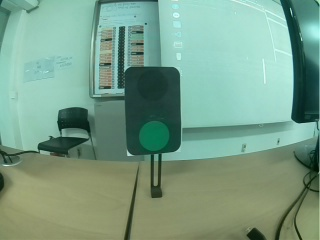green_light: (128, 68, 179, 155)
